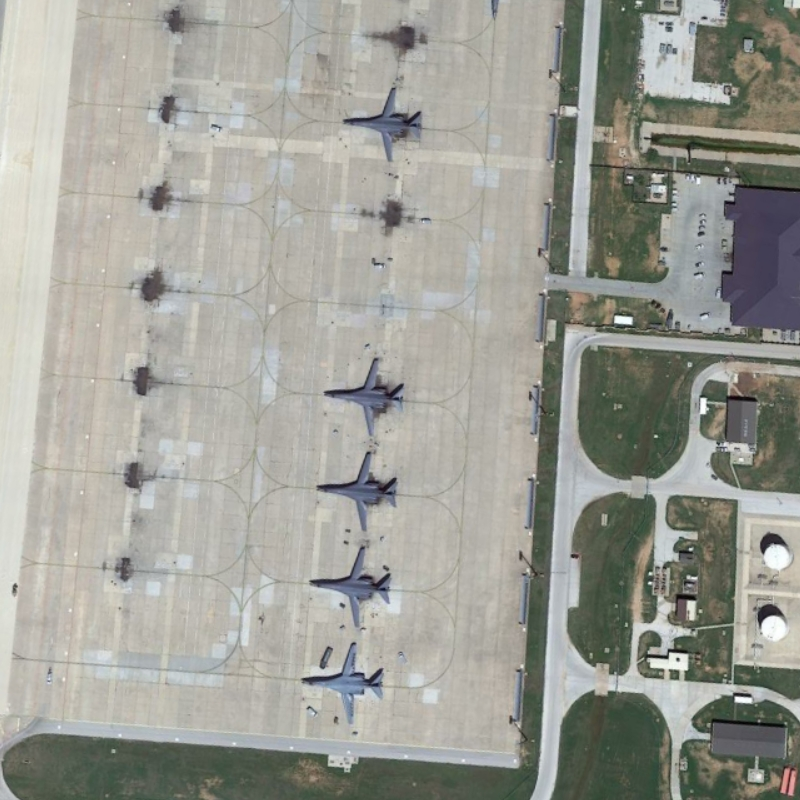A10: (299, 639, 409, 731), (320, 346, 421, 438), (304, 545, 410, 631), (313, 449, 415, 536), (341, 79, 435, 166)
